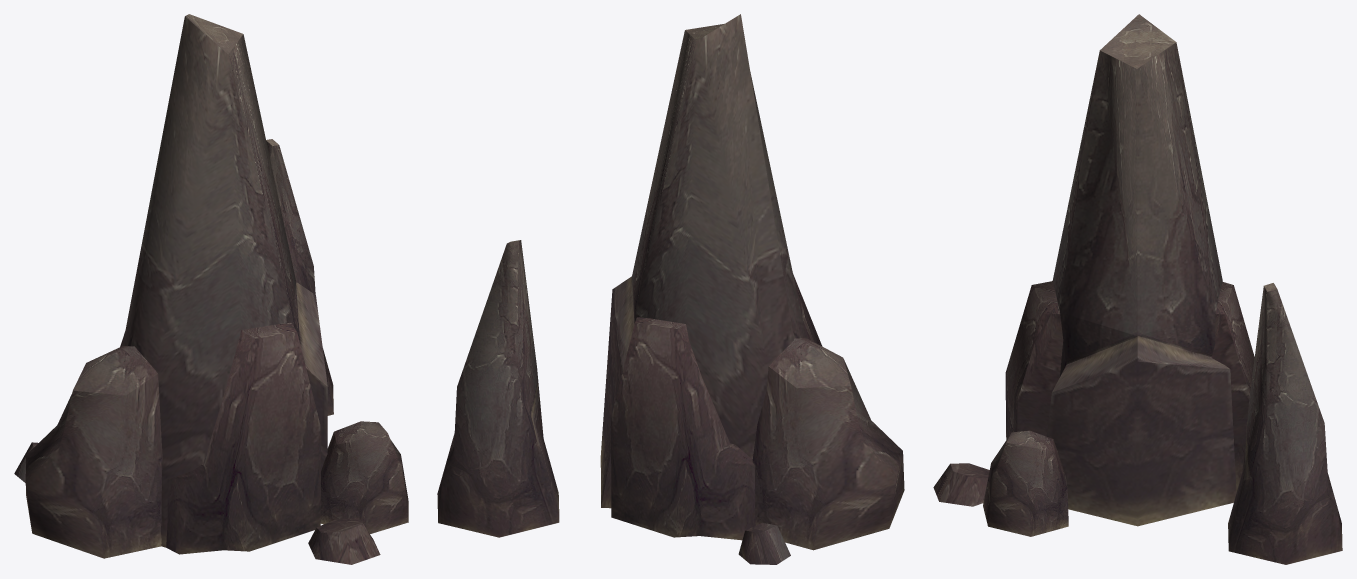
Rendered from yw_shibalipo_suishi02.FBX.
3 renders of one model, left to right at view 1: azimuth 30°, elevation 25°; view 2: azimuth 150°, elevation 25°; view 3: azimuth 270°, elevation 25°, orthographic. The views are drawn at different scales.
Parts seen in each view (by area): view 1: yw_shibalipo_suishi02; view 2: yw_shibalipo_suishi02; view 3: yw_shibalipo_suishi02.
Part boxes in pixels (<box>): yw_shibalipo_suishi02: <box>14,14,408,564</box>; yw_shibalipo_suishi02: <box>437,14,904,564</box>; yw_shibalipo_suishi02: <box>933,14,1342,564</box>.
Bounding box in the file's own units: 327 × 391 × 323.
